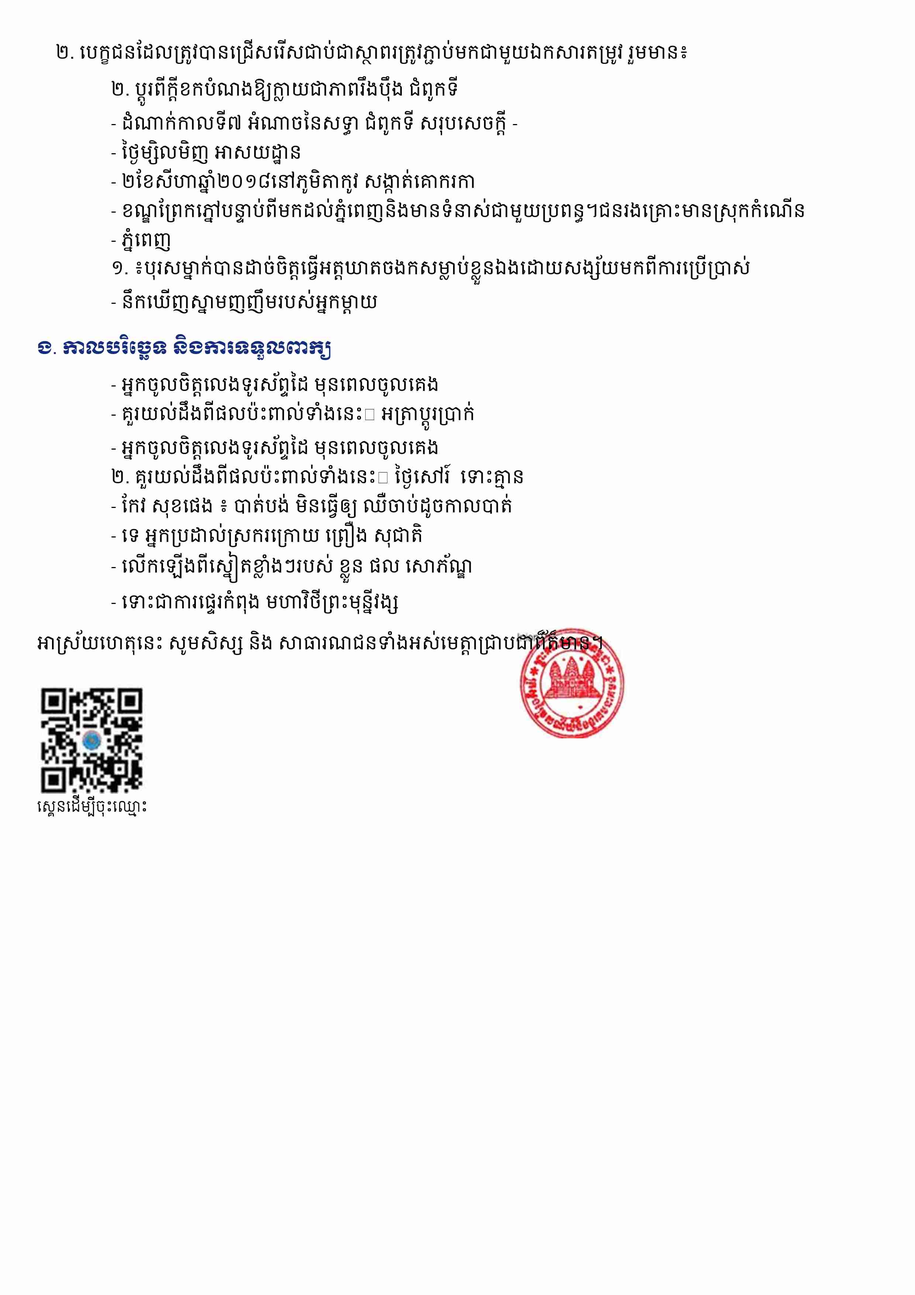decorative: (37, 683, 148, 794), (517, 628, 627, 738)
text: (111, 255, 751, 285), (111, 197, 806, 223), (55, 39, 689, 65), (37, 630, 604, 655), (111, 551, 473, 583), (111, 401, 475, 431), (111, 492, 513, 518), (111, 76, 459, 106), (111, 464, 525, 489), (111, 110, 518, 135), (111, 168, 476, 194), (111, 371, 439, 397), (111, 434, 439, 460), (111, 521, 423, 548), (37, 334, 331, 360), (111, 589, 399, 614), (111, 289, 378, 314), (111, 139, 302, 165), (37, 794, 148, 817), (111, 228, 172, 252)
